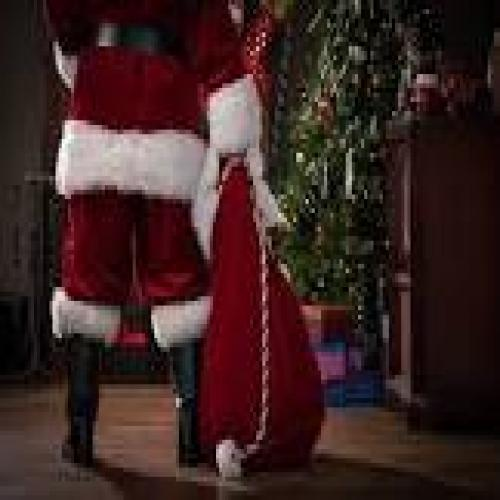Santa: (44, 1, 262, 474)
